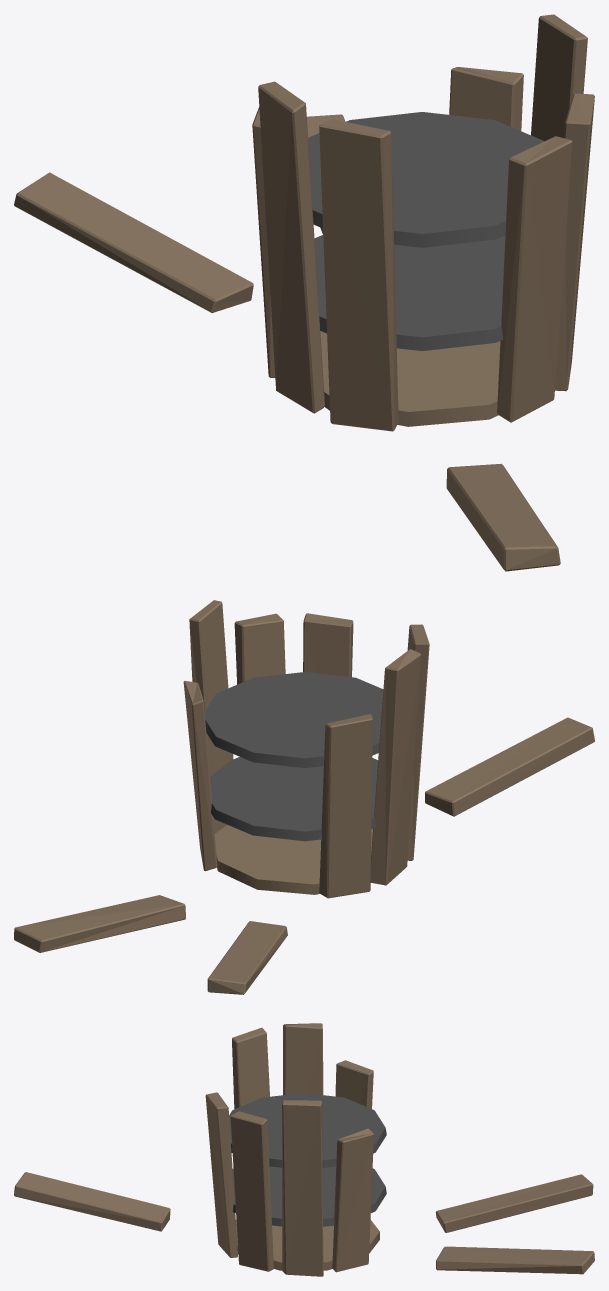
Rendered from barrel_wreck.glb.
3 views of the same model, one above another, from view 1: azimuth 30°, elevation 25°; view 2: azimuth 150°, elevation 25°; view 3: azimuth 270°, elevation 25° (orthographic). The views are drawn at different scales.
Parts seen in each view (by area): view 1: wood, iron; view 2: wood, iron; view 3: wood, iron.
Boxes of the visible parts, x1,y1,x2,y2 form: wood: (14,14,594,571); iron: (308,112,544,351); wood: (14,600,594,994); iron: (204,672,383,841); wood: (14,1023,594,1276); iron: (229,1093,386,1226).
Size of the model in its own units: 0.935 by 0.8753 by 2.51.
